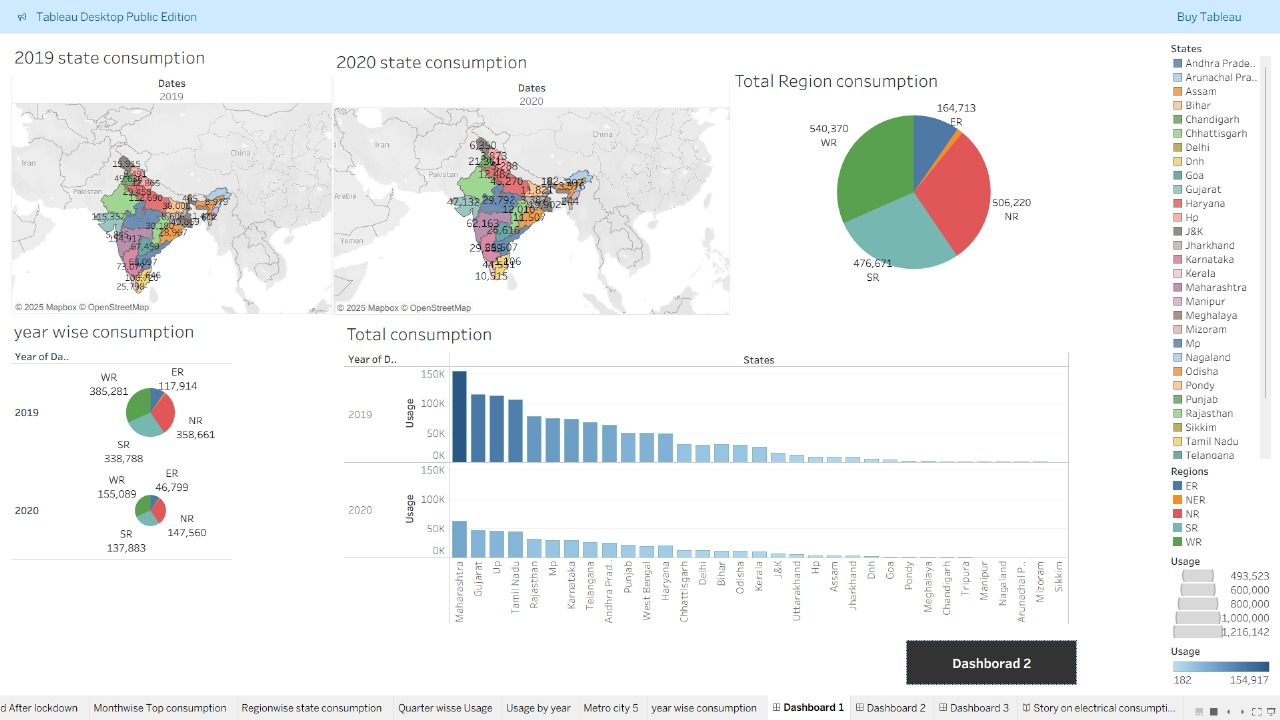

This screenshot's page, from the dashboard's own definition file:
{"tool":"tableau","page":{"name":"Dashboard 1","canvas":[1000,1000],"units":"permille","ordinal":0},"visuals":[{"type":"legend","title":"2019 state consumption","param":"[federated.08j8gbb139yky215o14ub1xfidkd].[none:States:nk]","box":[863.3,10.4,130.2,566.4]},{"type":"worksheet","title":"2019 state consumption","mark":"Multipolygon","rows":["latitude"],"cols":["Dates","longitude"],"box":[8.9,14.3,250.6,410.2]},{"type":"worksheet","title":"2020 state consumption","mark":"Multipolygon","rows":["latitude"],"cols":["Dates","longitude"],"box":[260.3,20.8,309.8,403.7]},{"type":"worksheet","title":"Total Region consumption","mark":"Pie","box":[572,49.5,284,330.7]},{"type":"worksheet","title":"year wise consumption","mark":"Pie","rows":["Dates"],"box":[8.1,428.4,257.9,533.9]},{"type":"worksheet","title":"Total consumption","mark":"Automatic","rows":["Dates","Usage"],"cols":["States"],"box":[268.5,432.3,566.3,460.9]},{"type":"legend","title":"year wise consumption","param":"[federated.08j8gbb139yky215o14ub1xfidkd].[none:Regions:nk]","box":[863.3,576.8,130.2,164.1]},{"type":"legend","title":"year wise consumption","param":"[federated.08j8gbb139yky215o14ub1xfidkd].[sum:Usage:qk]","box":[863.3,740.9,130.2,164.1]},{"type":"legend","title":"Total consumption","param":"[federated.08j8gbb139yky215o14ub1xfidkd].[sum:Usage:qk]","box":[863.3,904.9,130.2,84.6]},{"type":"dashboard-object","box":[707.9,916.7,133.4,67.7]}]}

Visuals, with their boxes on the dashboard's canvas, which has no fixed pixel size, in thousandths of its width and height (x1, y1, x2, y2). These are canvas units, not pixel positions in the 1280x720 screenshot, which may show the page scaled, cropped or inside an application window:
"2019 state consumption" legend: crop(863, 10, 994, 577)
"2019 state consumption" worksheet (Multipolygon marks): crop(9, 14, 260, 424)
"2020 state consumption" worksheet (Multipolygon marks): crop(260, 21, 570, 424)
"Total Region consumption" worksheet (Pie marks): crop(572, 50, 856, 380)
"year wise consumption" worksheet (Pie marks): crop(8, 428, 266, 962)
"Total consumption" worksheet: crop(268, 432, 835, 893)
"year wise consumption" legend: crop(863, 577, 994, 741)
"year wise consumption" legend: crop(863, 741, 994, 905)
"Total consumption" legend: crop(863, 905, 994, 990)
dashboard-object: crop(708, 917, 841, 984)
